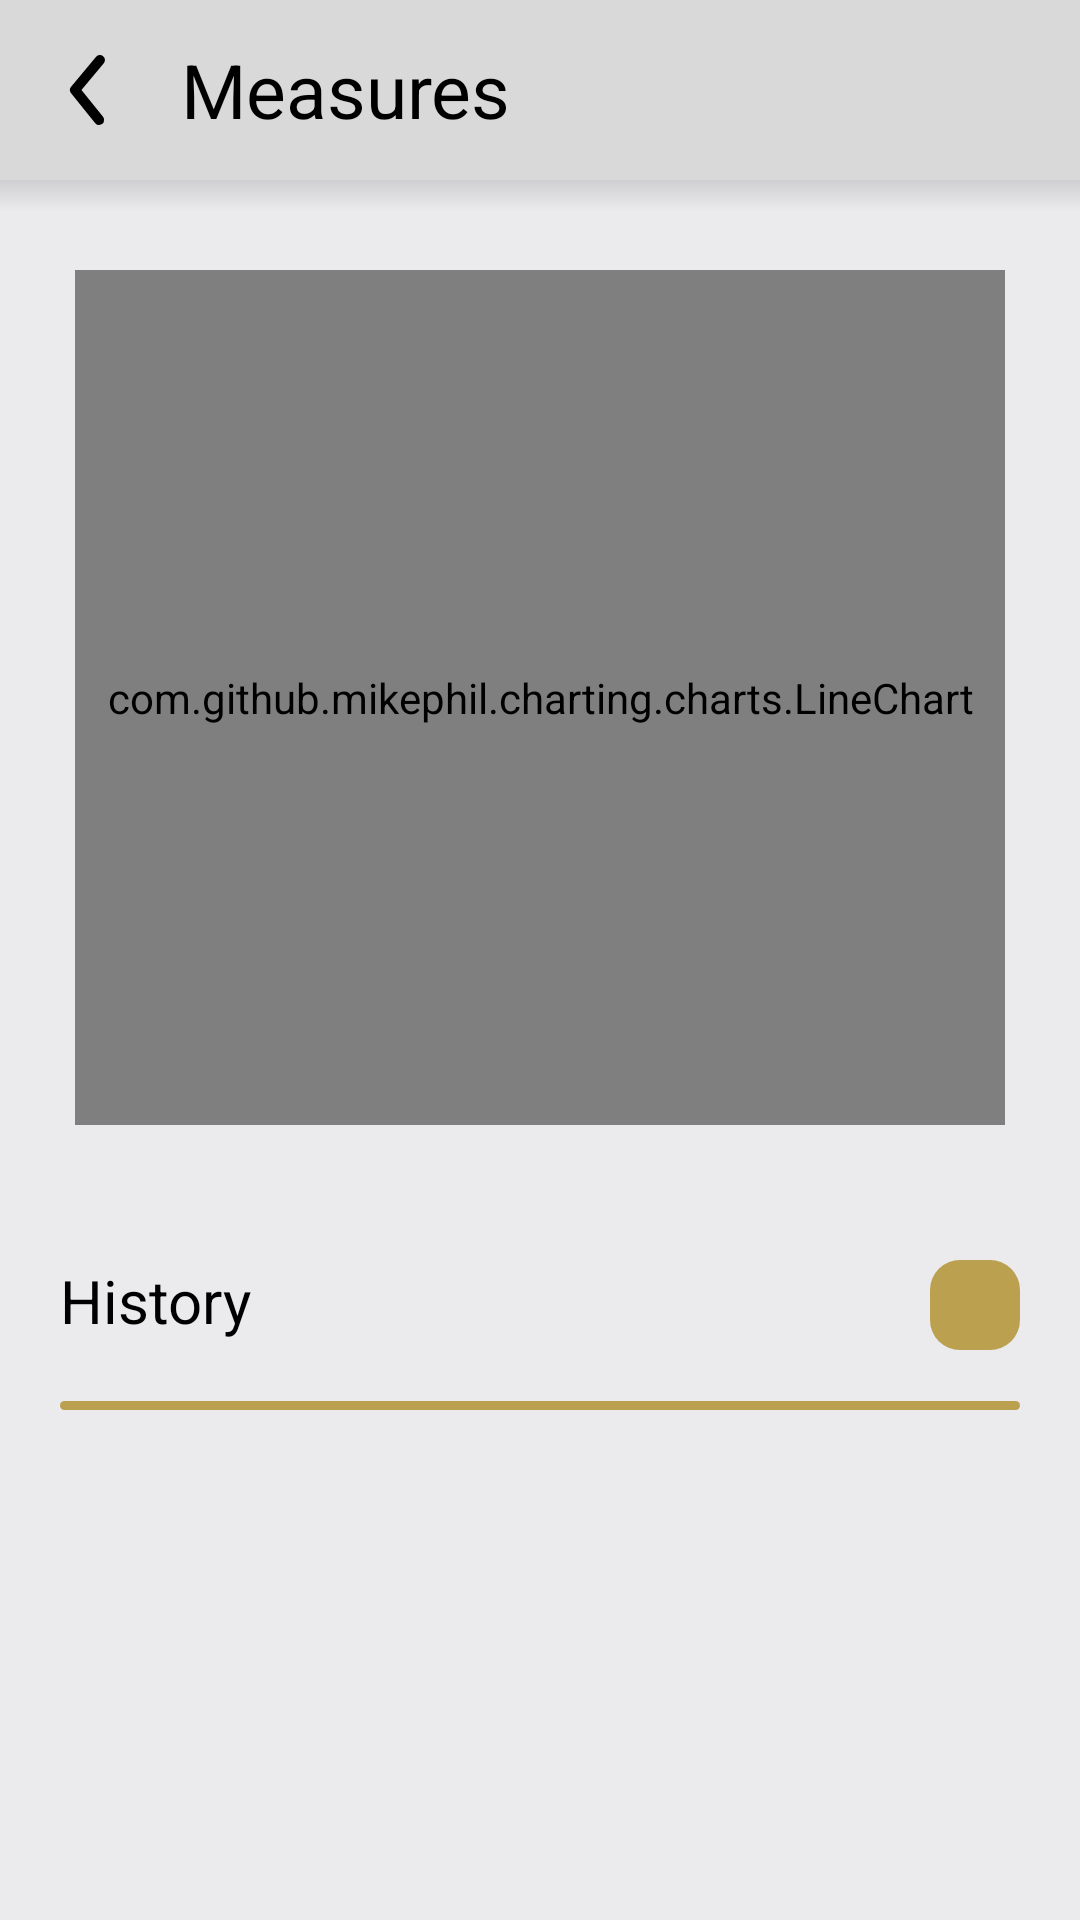

Screen size 1080w x 1920h. Icon name, then its box in pixels as [x1, y1, x2, y2]:
back arrow: [69, 55, 105, 125]
